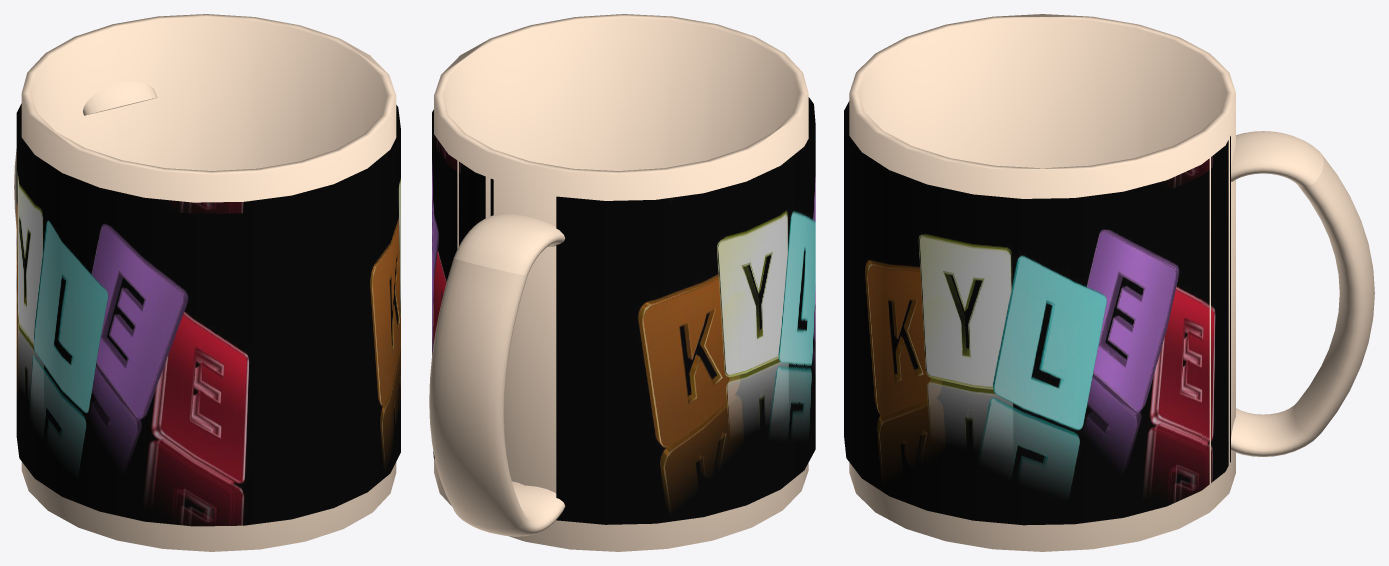
3 renders of one model, left to right at view 1: azimuth 30°, elevation 25°; view 2: azimuth 150°, elevation 25°; view 3: azimuth 270°, elevation 25°, orthographic.
Visible parts, largest first — view 1: SketchUp (×3), group_0; view 2: SketchUp (×3), group_0; view 3: SketchUp (×3), group_0.
Boxes of the visible parts, left/top/right/bottom form: SketchUp (×3): left=16, top=14, right=400, bottom=551; group_0: left=14, top=81, right=157, bottom=227; SketchUp (×3): left=432, top=14, right=815, bottom=551; group_0: left=429, top=213, right=565, bottom=536; SketchUp (×3): left=844, top=14, right=1235, bottom=551; group_0: left=1231, top=131, right=1374, bottom=456.
Size of what is drawn, in the model's own units: 122 by 168 by 132.
Materials: 3 (1 with a texture image).
